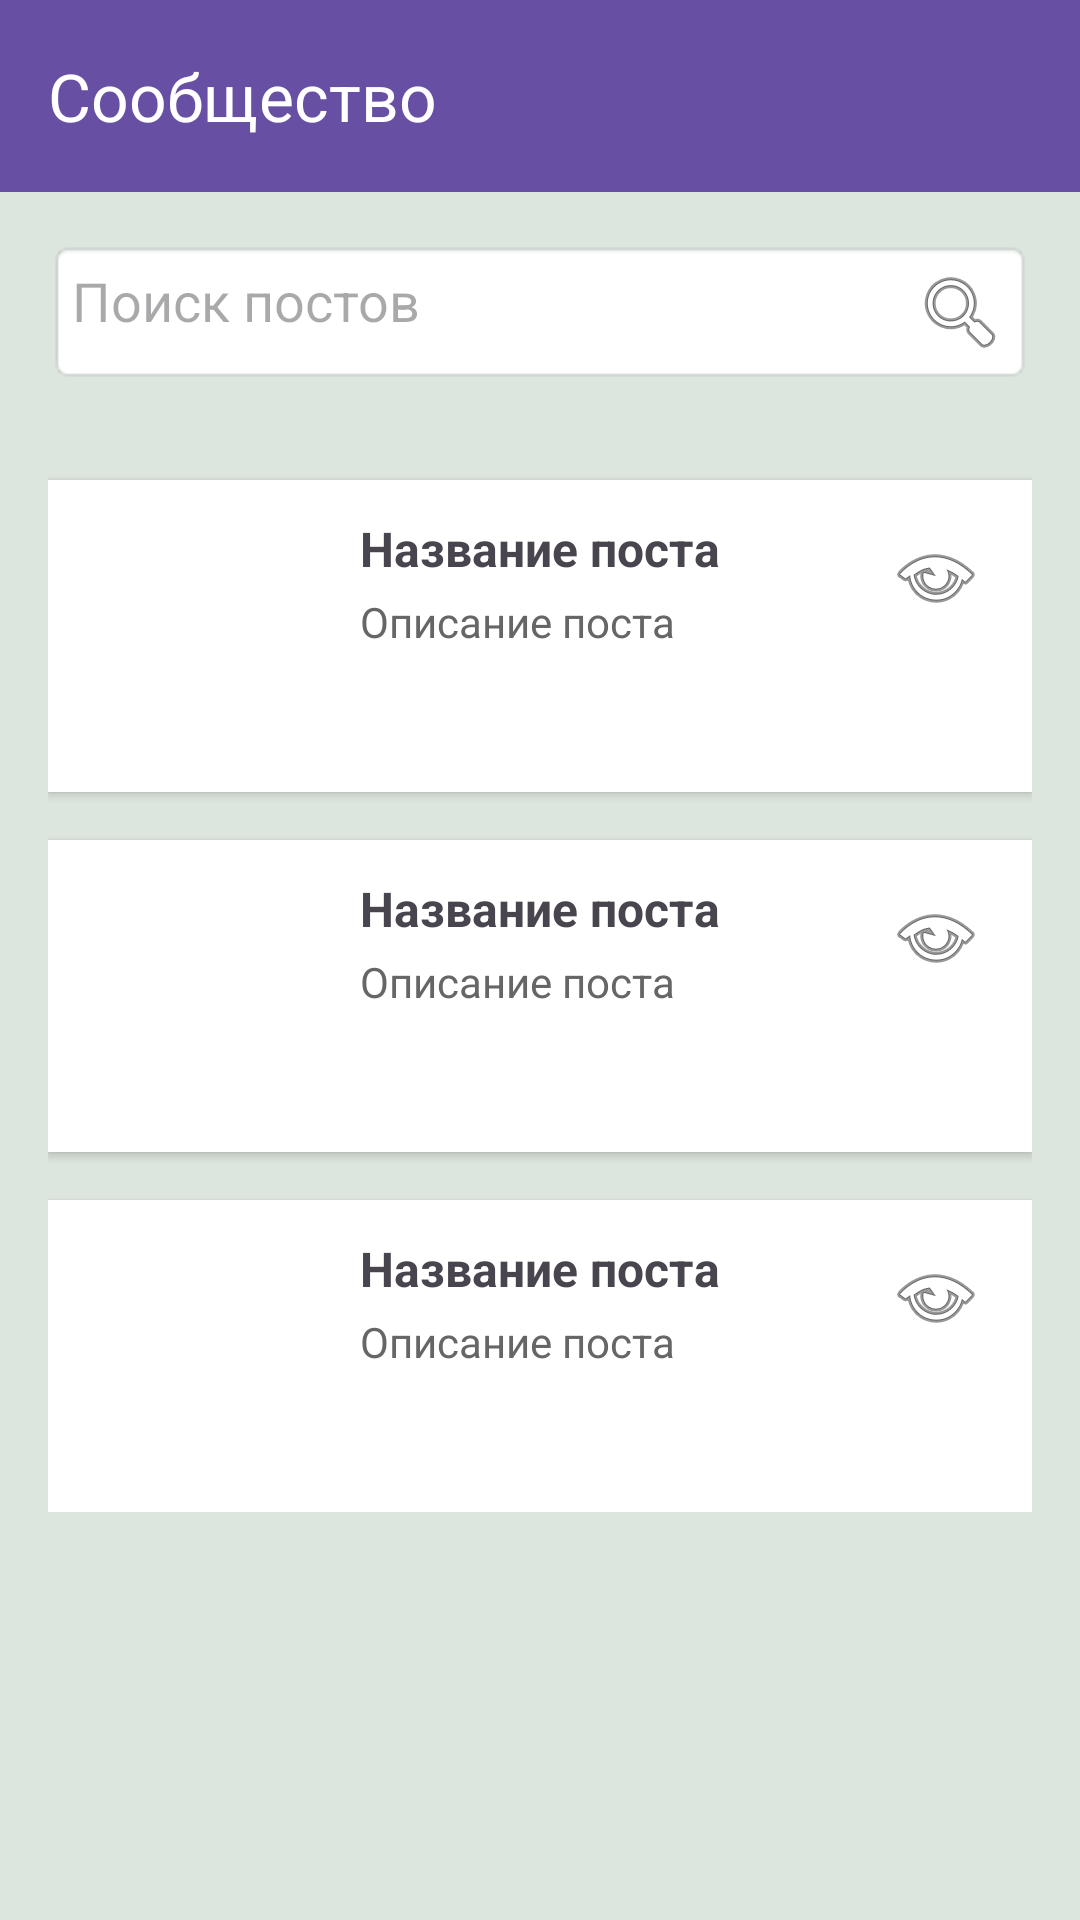

Icons on this 1080*1920 Android screen, each with the point to tap as [x,y]:
search: [960,312]
Открыть: [936,578], [936,938], [936,1298]
